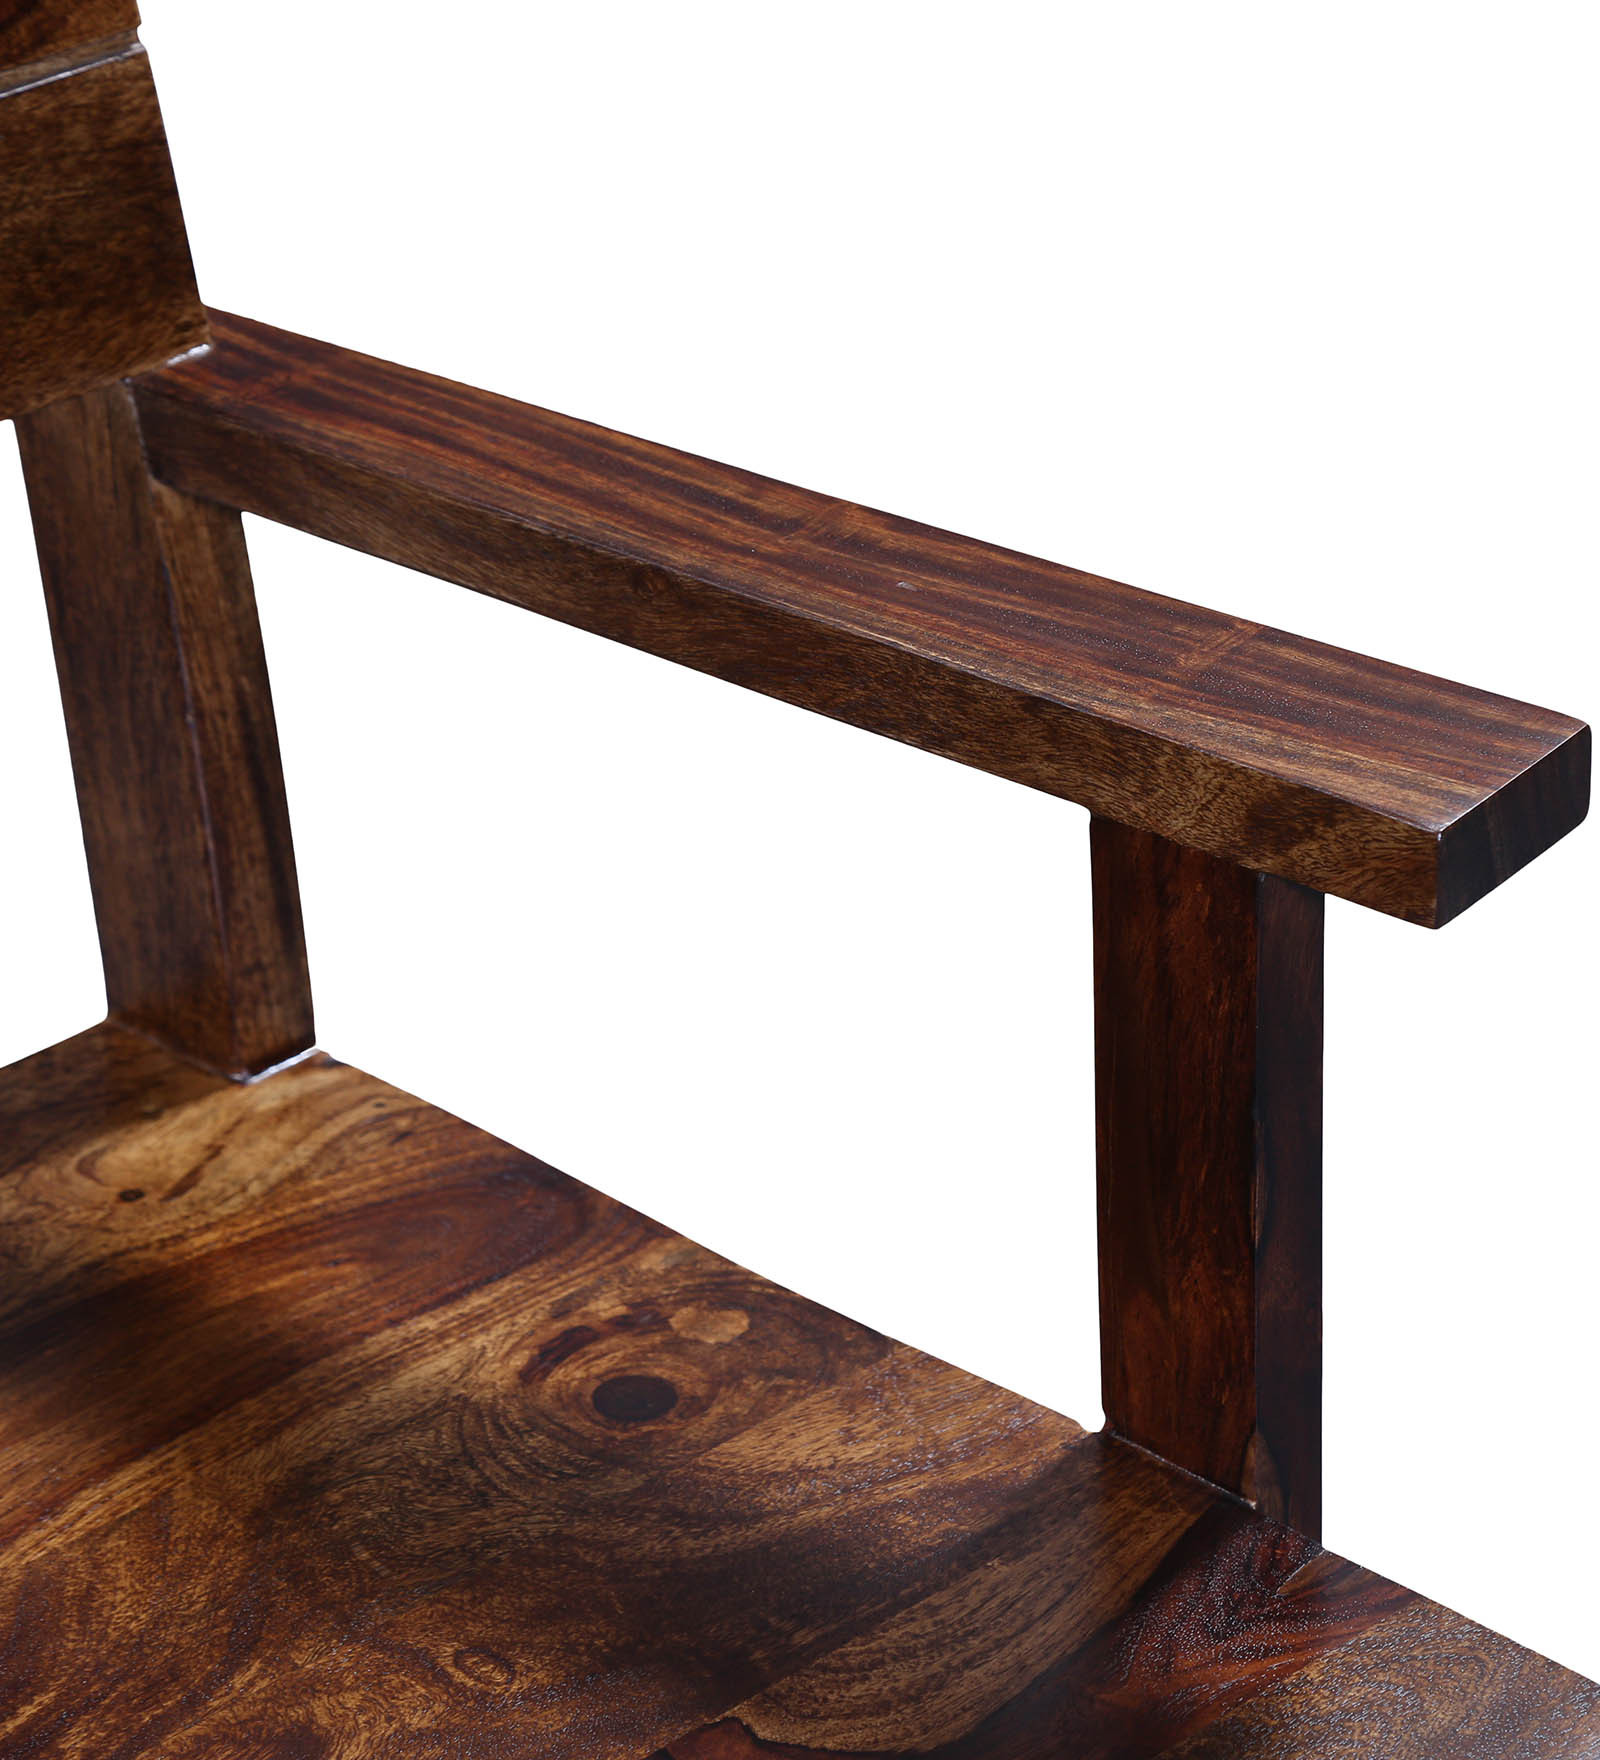Segur Arm Chair in Provincial Teak Finish by Woodsworth: (17, 60, 1600, 1760)
